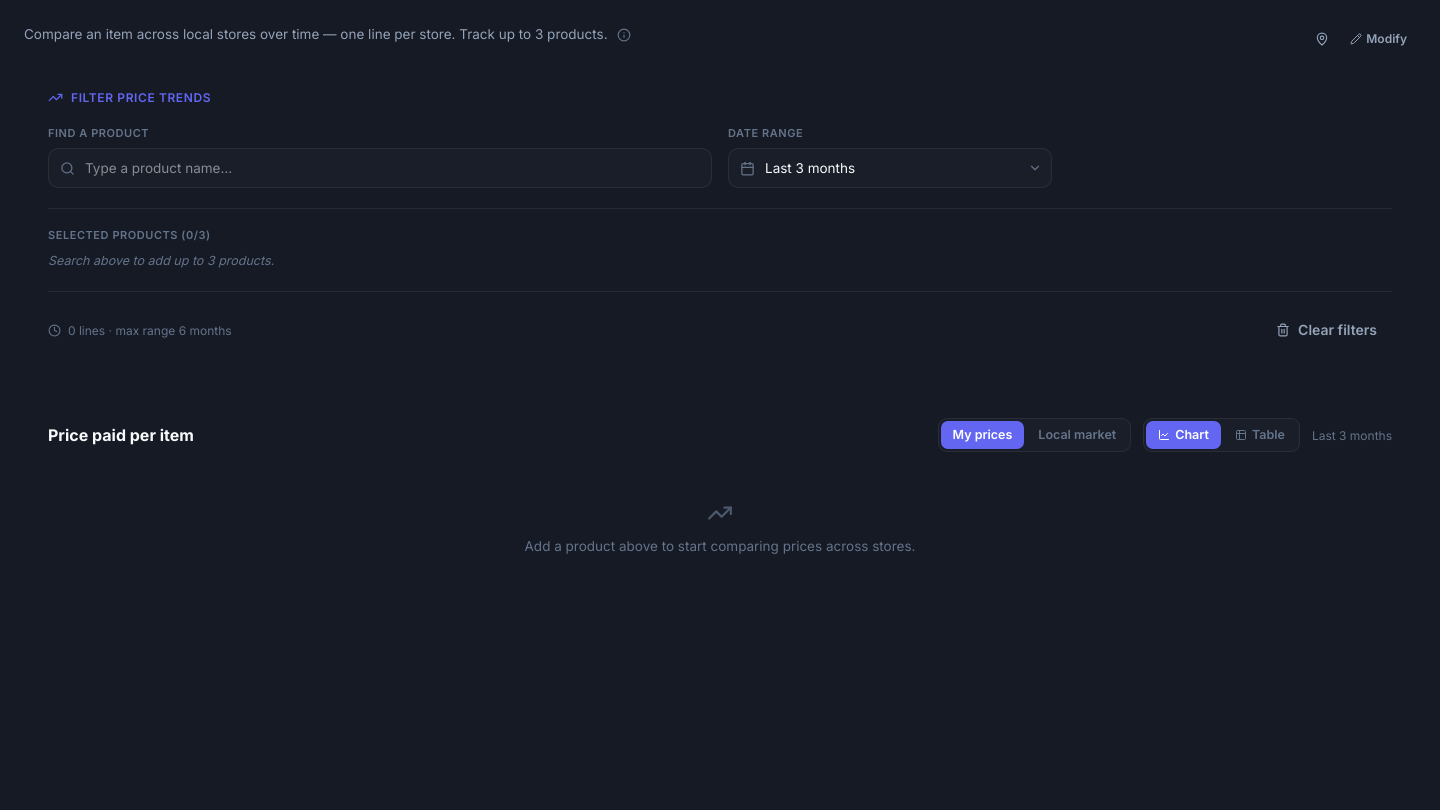
Test: ReportsPage › swaps the chart for its data-table twin
The image size is (1440, 810).
Type "melk" into the field with test id "trend-product-search" at (380, 168), box left=48, top=148, right=712, bottom=188
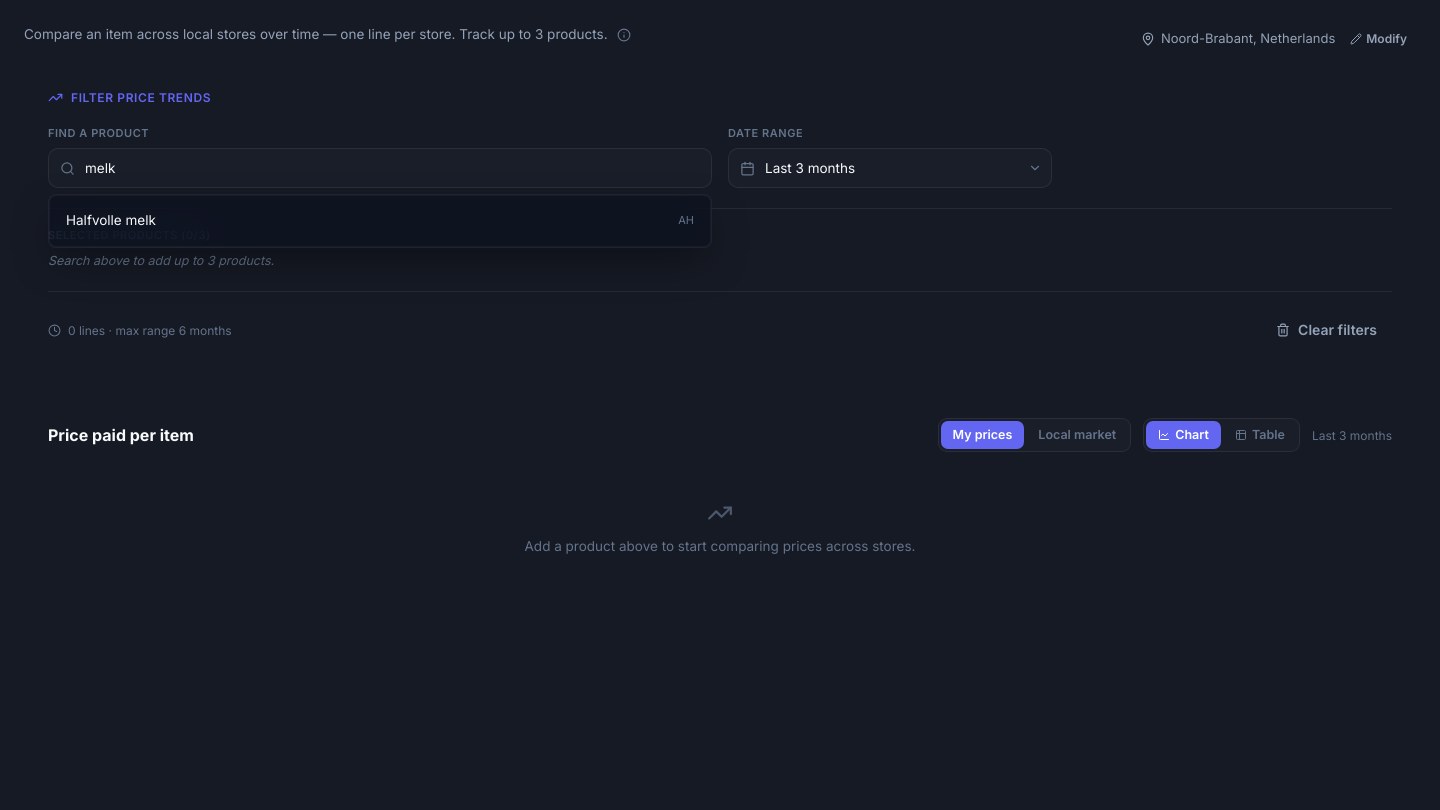
Press the mouse on the text "Halfvolle melk" at (111, 221), box left=66, top=210, right=156, bottom=232
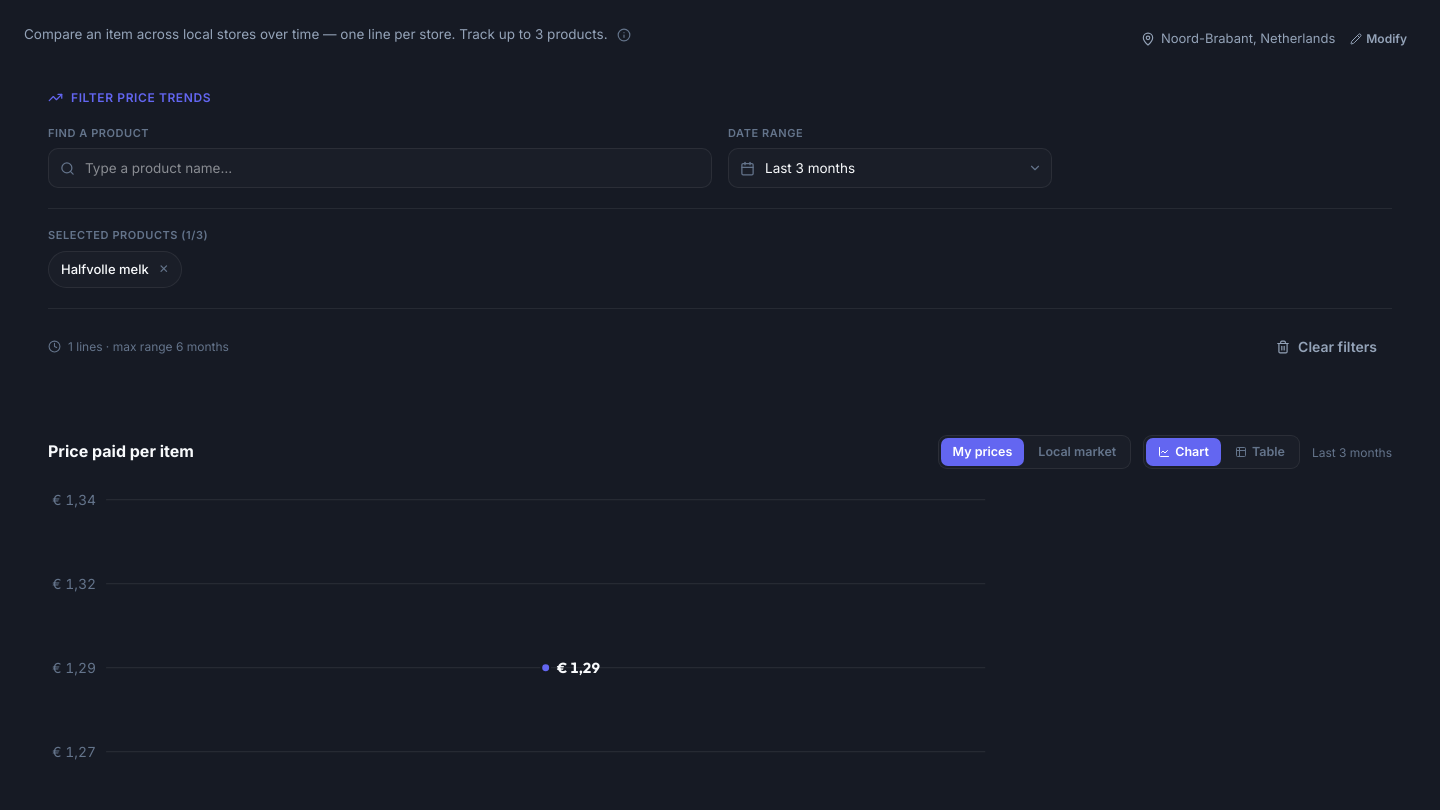
Click the button with test id "trends-view-table" at (1260, 452), box left=1223, top=438, right=1297, bottom=466
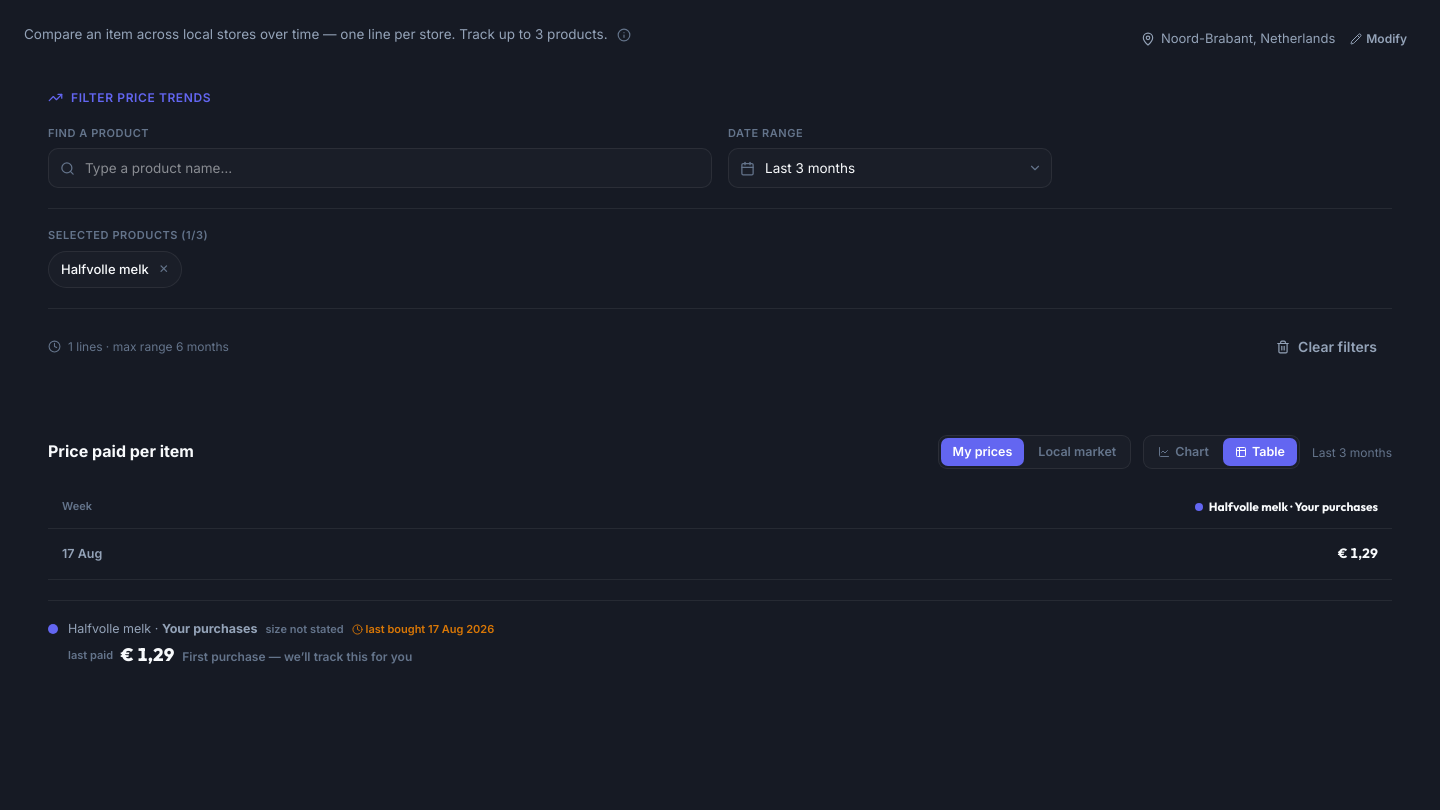
Check: the table with test id "trends-table" is shown, box left=48, top=485, right=1392, bottom=580
Click the button with test id "trends-view-chart" at (1184, 452), box left=1146, top=438, right=1221, bottom=466
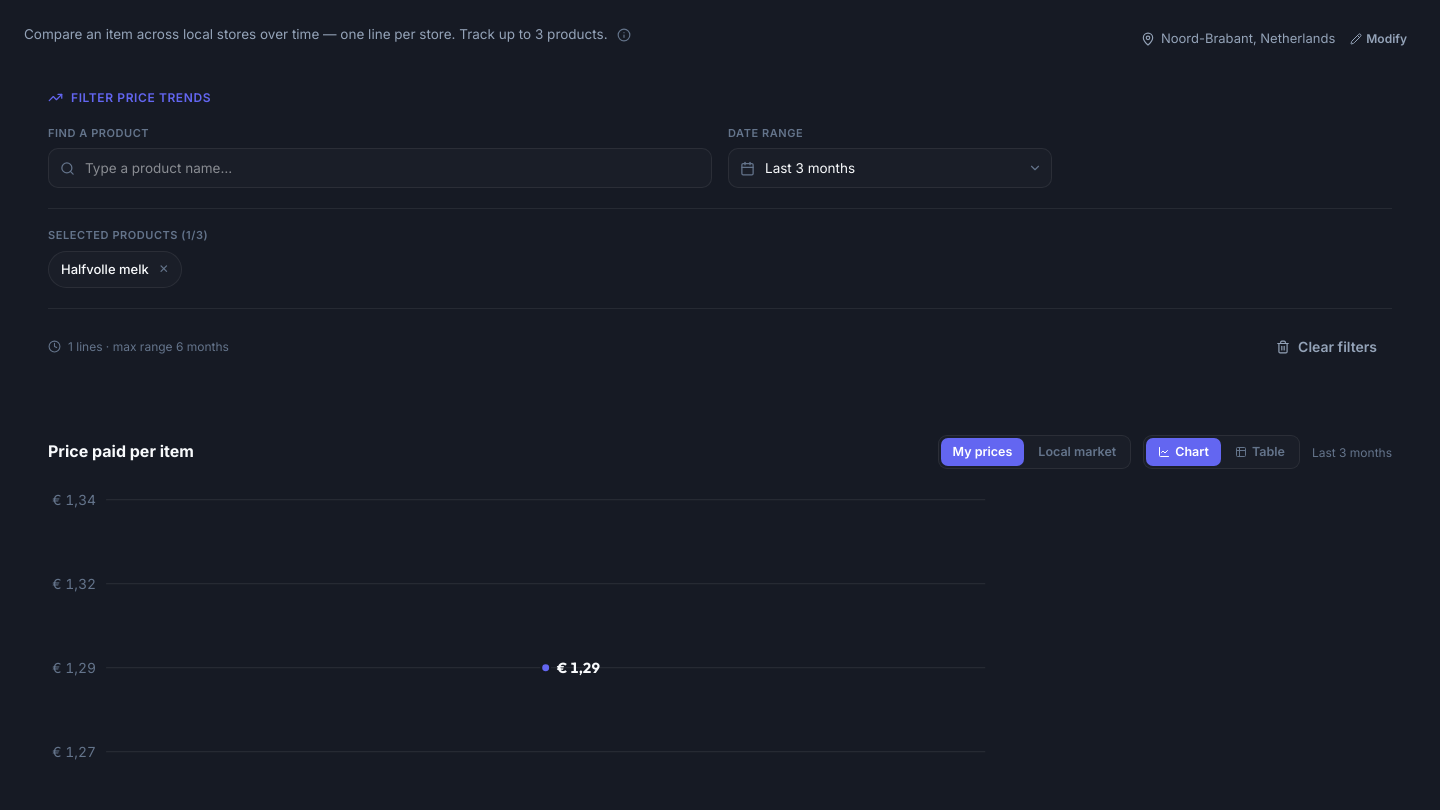
Check: the table with test id "trends-table" is gone
